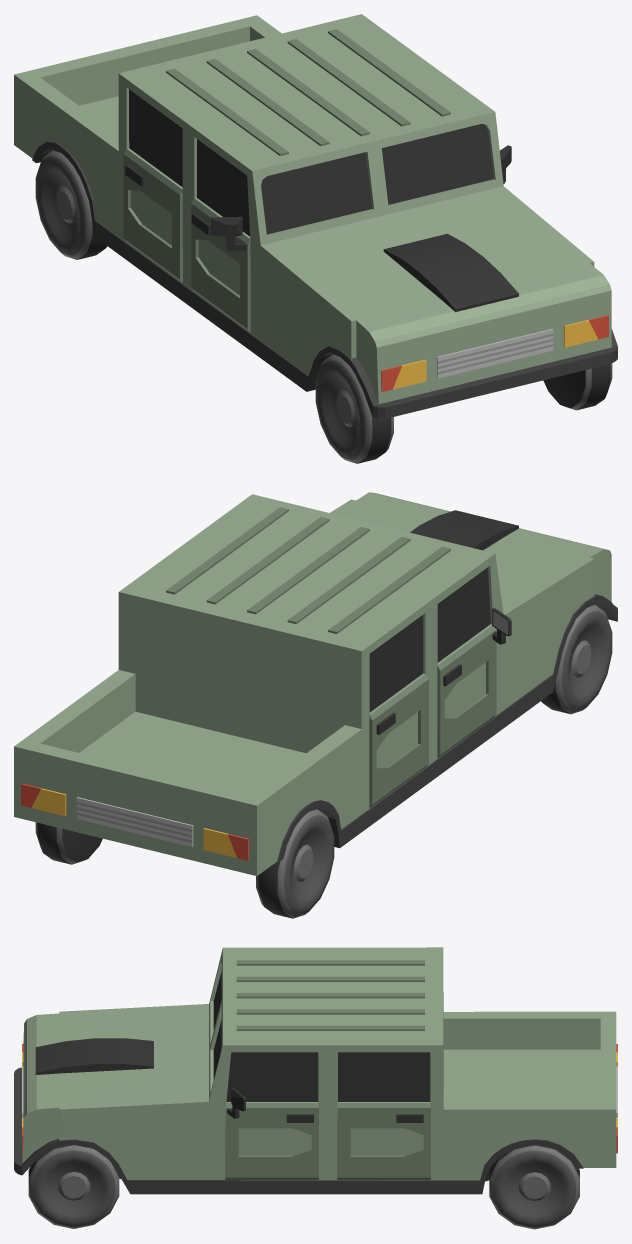
File: jeep02_color03.fbx
3 renders of one model, top to bottom at view 1: azimuth 30°, elevation 25°; view 2: azimuth 150°, elevation 25°; view 3: azimuth 270°, elevation 25°, orthographic. The views are drawn at different scales.
Visible parts, largest first — view 1: Plane.024, Plane.029, Plane.026, Plane.027; view 2: Plane.024, Plane.026, Plane.029, Plane.028; view 3: Plane.024, Plane.028, Plane.027.
Part boxes in pixels (x1=…): Plane.024: x1=14, y1=14, x2=617, y2=418; Plane.029: x1=315, y1=354, x2=393, y2=463; Plane.026: x1=35, y1=150, x2=107, y2=259; Plane.027: x1=543, y1=363, x2=612, y2=410; Plane.024: x1=14, y1=492, x2=617, y2=875; Plane.026: x1=256, y1=808, x2=334, y2=918; Plane.029: x1=541, y1=604, x2=612, y2=714; Plane.028: x1=35, y1=822, x2=102, y2=864; Plane.024: x1=14, y1=947, x2=617, y2=1194; Plane.028: x1=489, y1=1145, x2=579, y2=1229; Plane.027: x1=28, y1=1145, x2=119, y2=1228.
Size of the model in its own units: 269 by 193 by 568.
